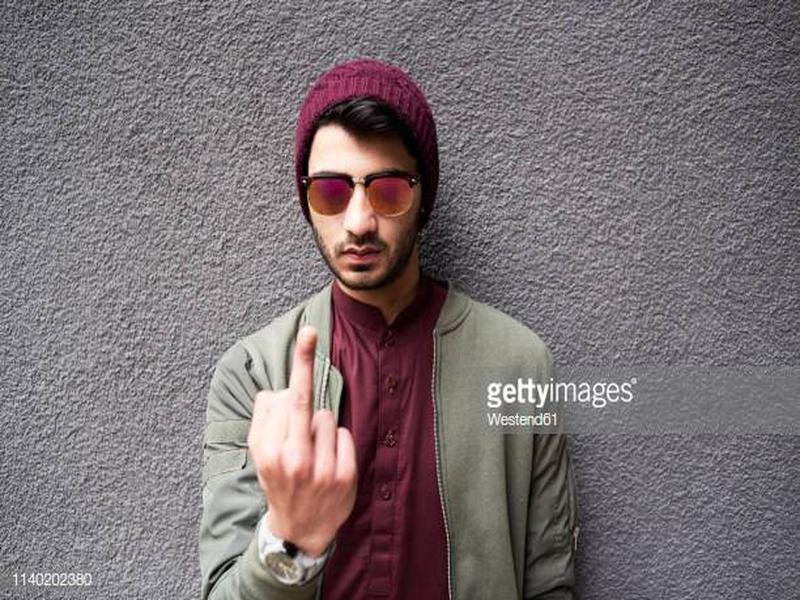flipping_the_bird: (240, 337, 364, 545)
